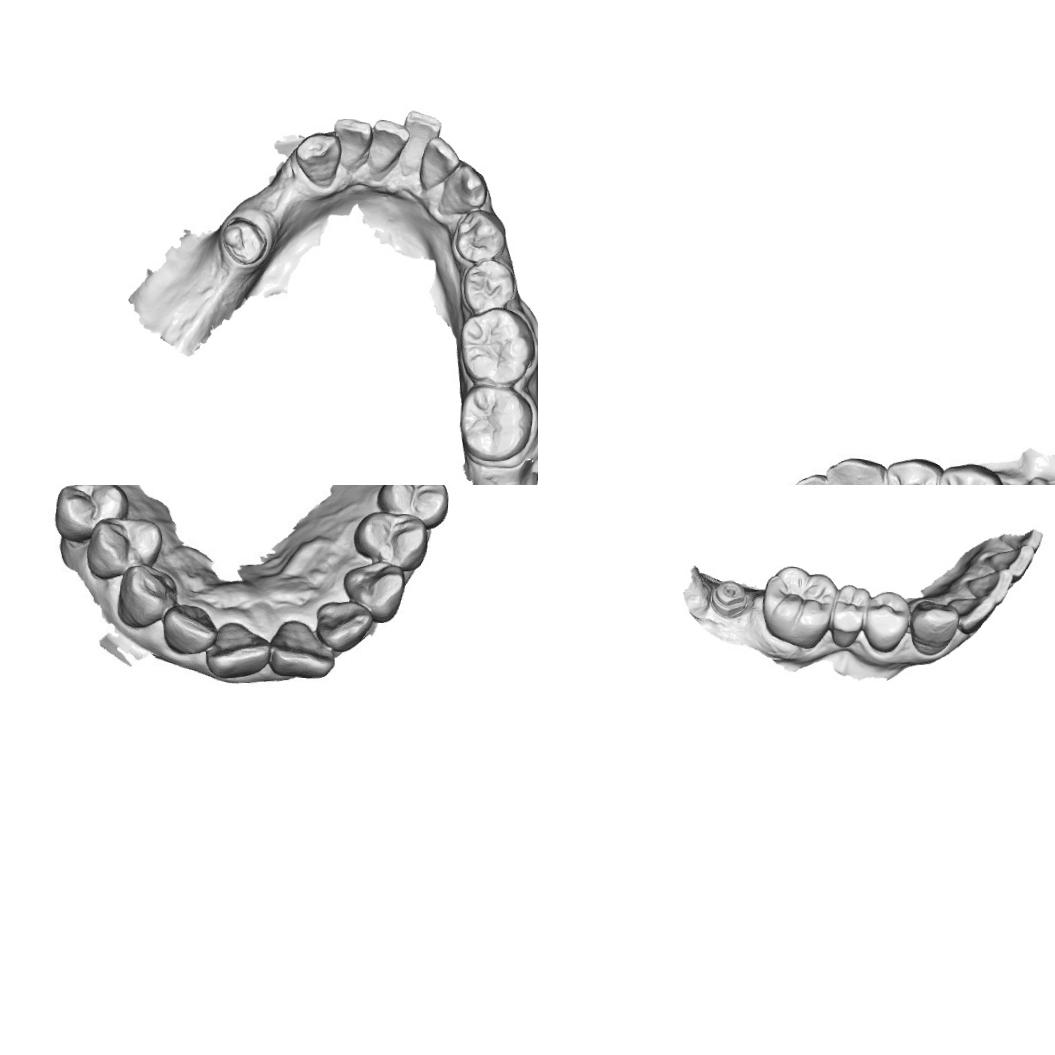canine: (114, 561, 179, 629), (340, 559, 407, 623), (906, 596, 960, 657), (292, 129, 343, 191), (435, 161, 490, 217), (824, 457, 889, 485)
crown: (216, 212, 272, 268)
implant_minus: (710, 574, 750, 611)
incisor: (265, 616, 335, 682), (203, 616, 268, 681), (158, 604, 216, 660), (398, 108, 444, 178), (313, 598, 374, 650), (366, 116, 412, 182), (327, 114, 374, 174), (417, 131, 460, 193), (952, 591, 998, 634), (960, 572, 1014, 606), (994, 524, 1045, 555), (980, 545, 1024, 578)
molar: (455, 303, 537, 386), (758, 562, 835, 650), (456, 381, 536, 463), (933, 458, 1003, 485), (885, 457, 942, 485)
premolar: (82, 518, 164, 582), (350, 510, 428, 570), (51, 485, 128, 544), (858, 588, 912, 655), (458, 256, 517, 316), (371, 485, 454, 525), (452, 206, 507, 264), (828, 580, 870, 648)
